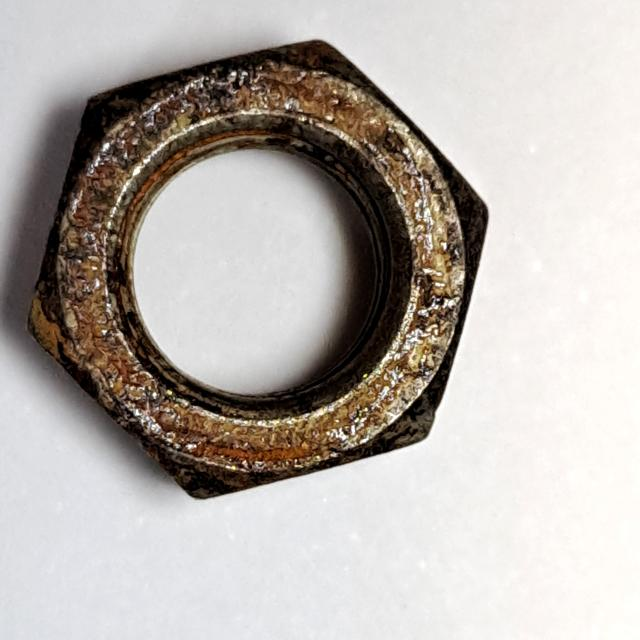Rust: (10, 21, 505, 515)
